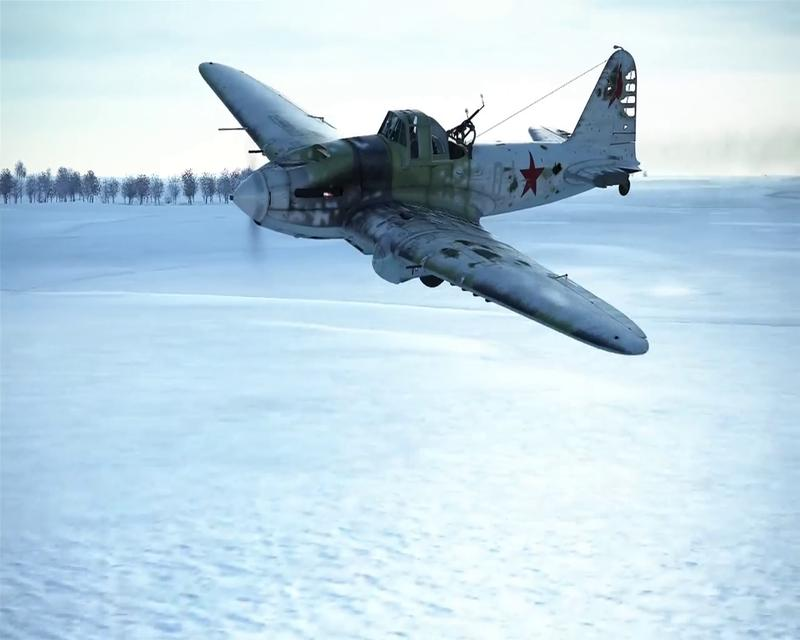UAV: (197, 44, 650, 357)
